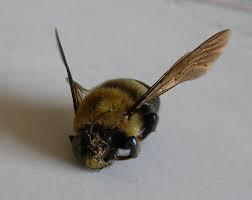Xylocopa: (49, 13, 232, 174)
